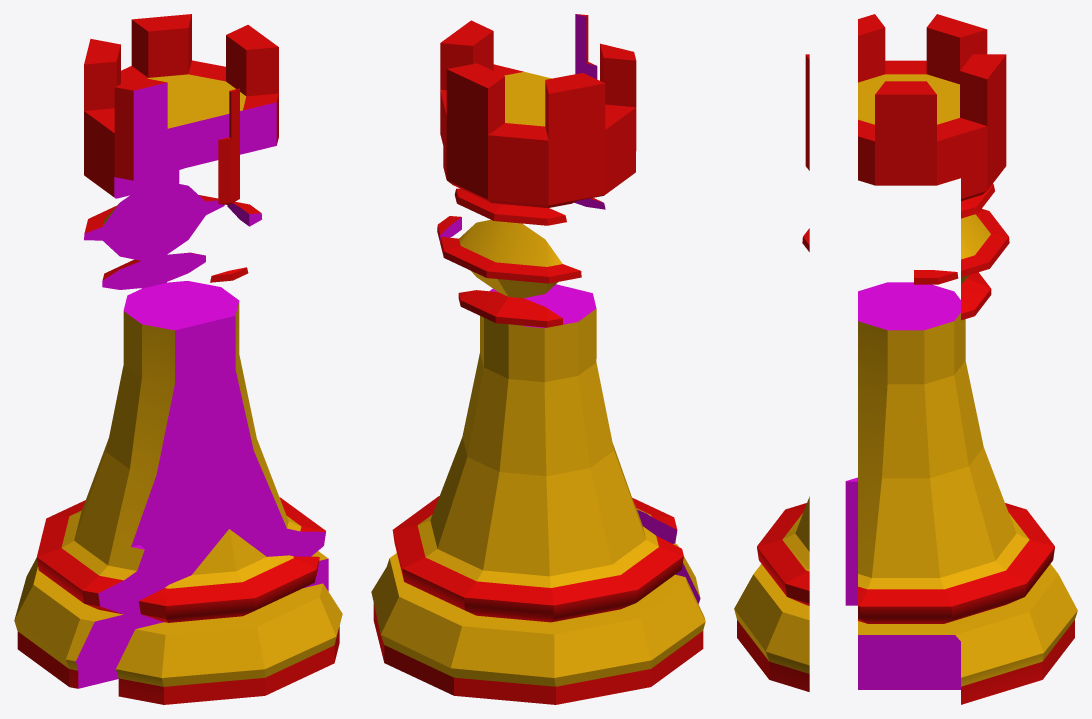
The model's file is Rook_Glitch.fbx.
3 renders of one model, left to right at view 1: azimuth 30°, elevation 25°; view 2: azimuth 150°, elevation 25°; view 3: azimuth 270°, elevation 25°, orthographic.
Parts seen in each view (by area): view 1: RookLow_Glitch; view 2: RookLow_Glitch; view 3: RookLow_Glitch.
Part boxes in pixels (bbox=[...]): RookLow_Glitch: bbox=[14, 14, 342, 704]; RookLow_Glitch: bbox=[371, 14, 705, 704]; RookLow_Glitch: bbox=[734, 14, 1077, 704].
Bounding box in the file's own units: 0.8178 × 1.62 × 0.8635.
